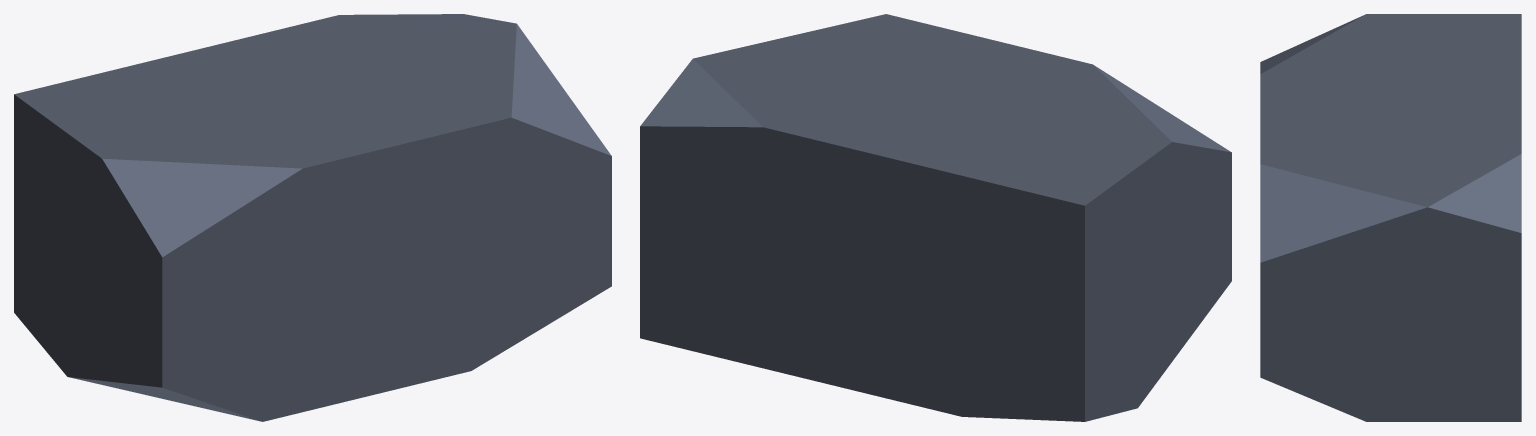
File: baba_ranged.glb
3 views of the same model, side by side, from view 1: azimuth 30°, elevation 25°; view 2: azimuth 150°, elevation 25°; view 3: azimuth 270°, elevation 25° (orthographic). The views are drawn at different scales.
Bounding box in the file's own units: 112 × 58 × 64.01.
1 material, 1 textured.
